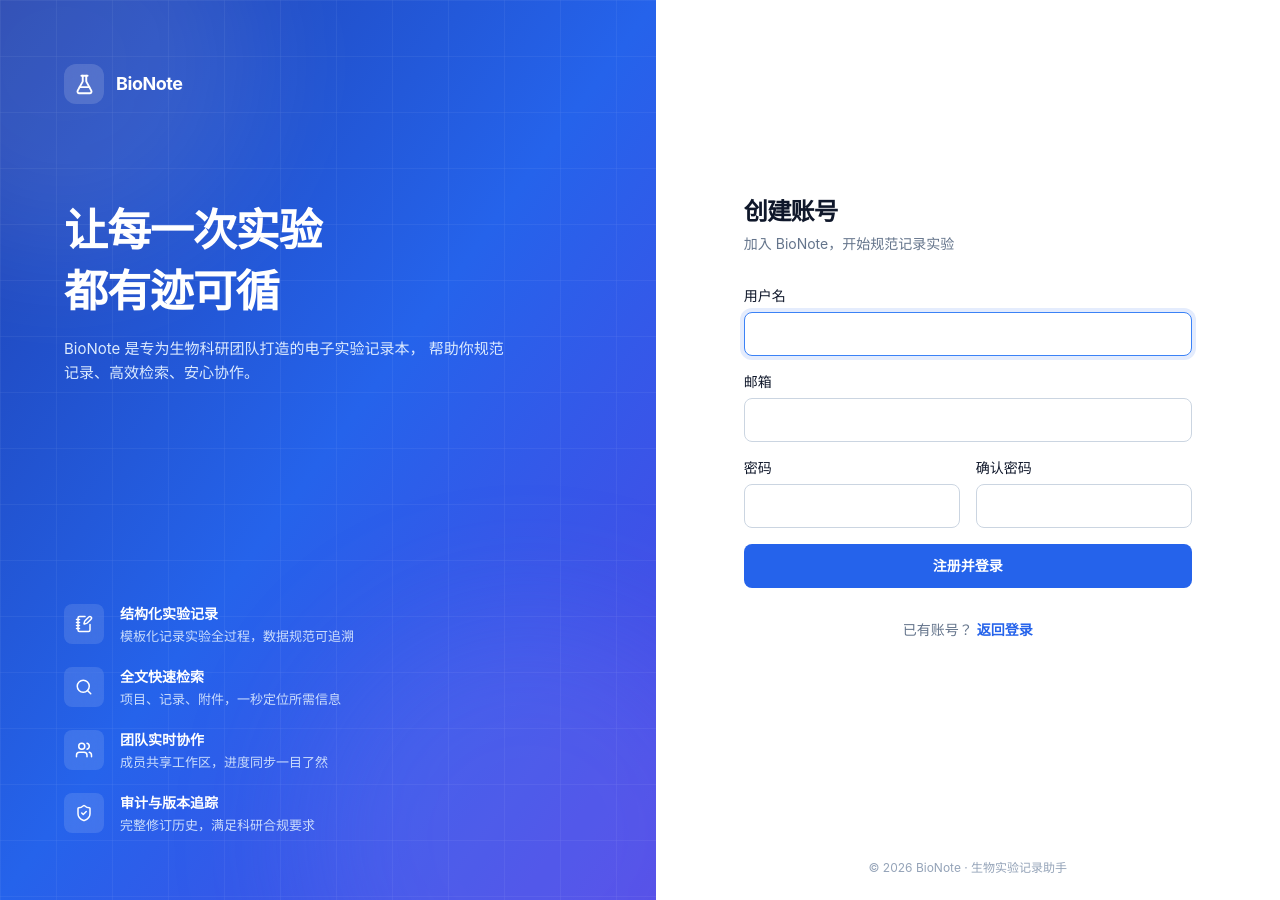
Test: RegisterPage › shows confirmation mismatch at the field
In the field labelled "用户名": (968, 334) [744,312,1192,356], type "测试用户"
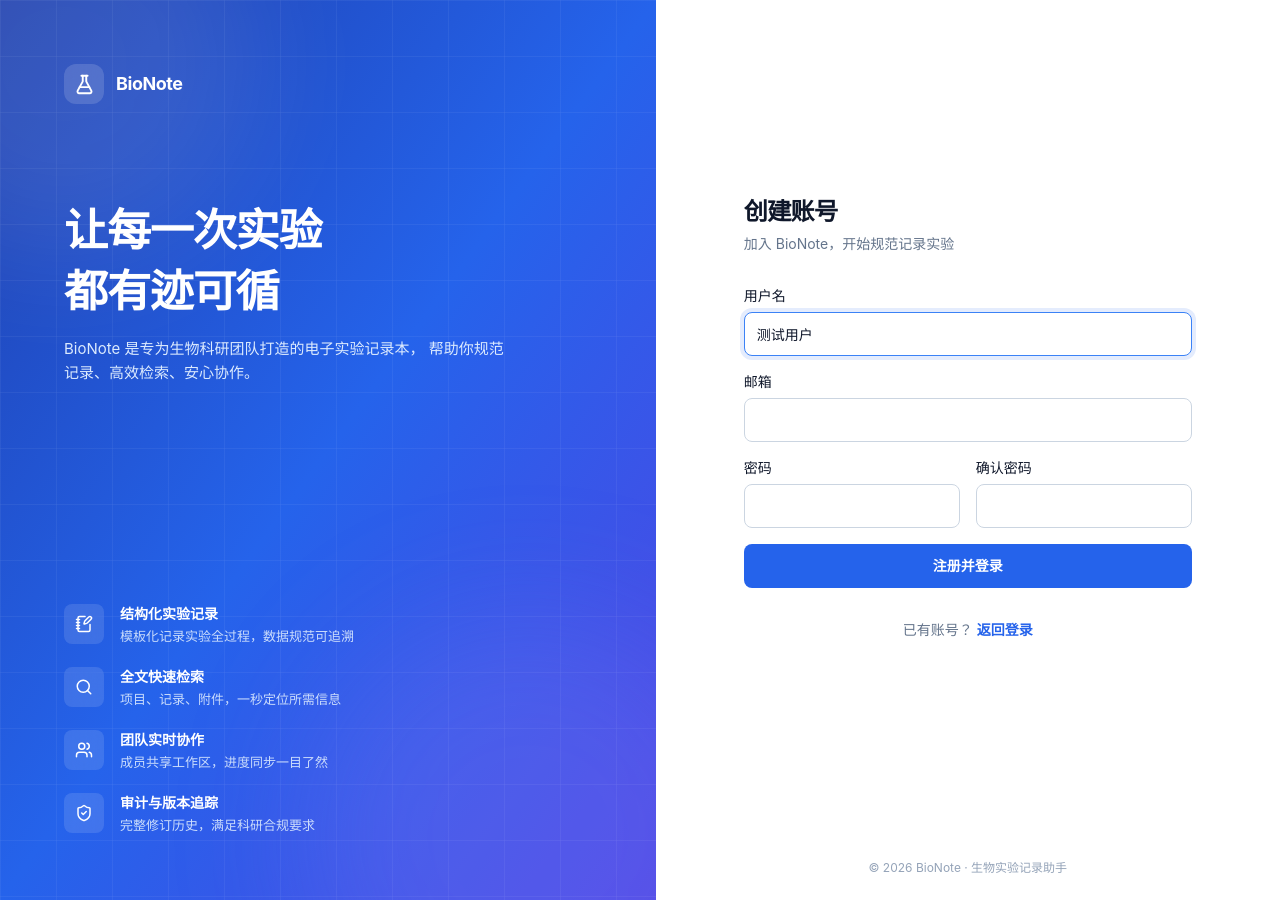
In the field labelled "邮箱": (968, 420) [744,398,1192,442], type "user@example.com"
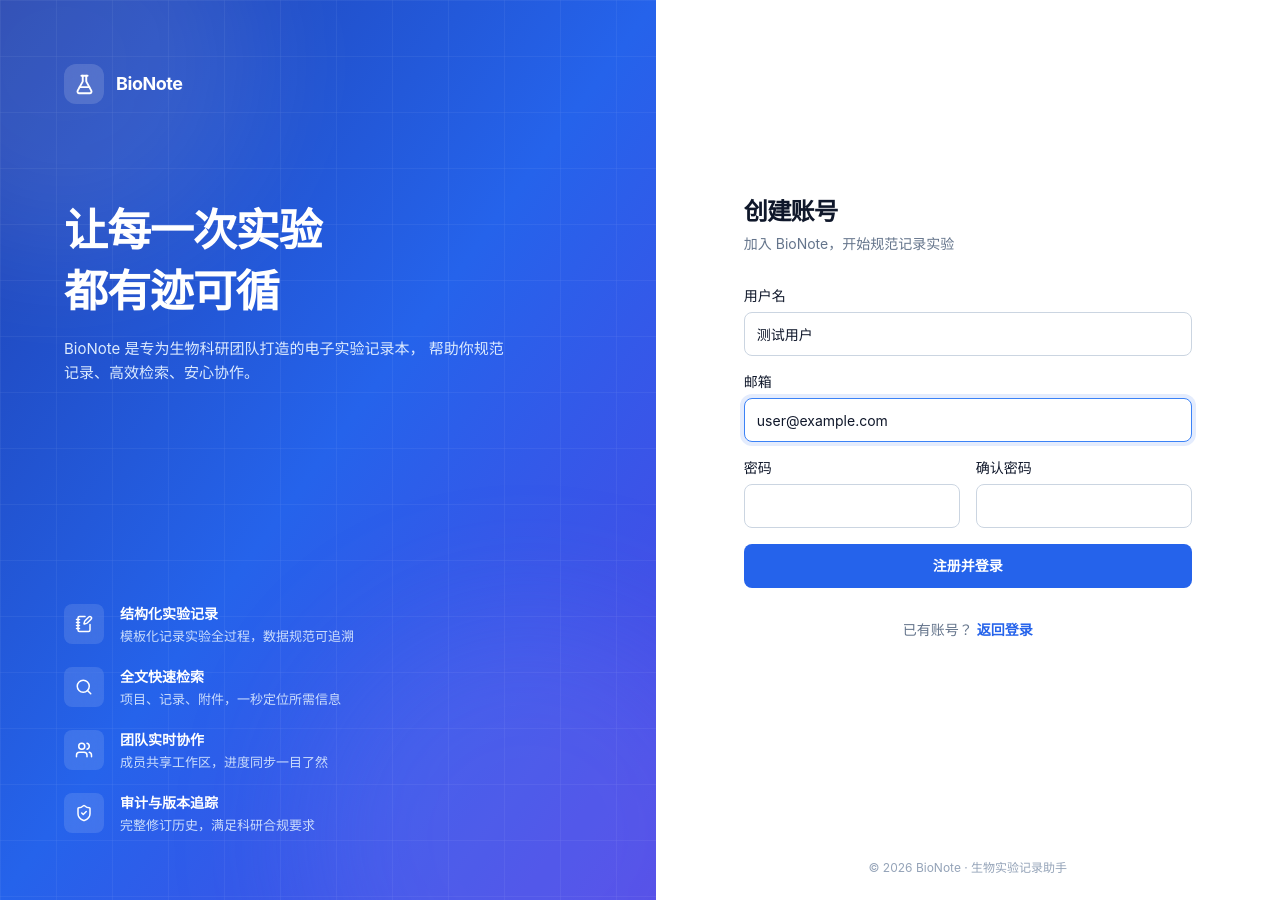
In the password field labelled "密码": (852, 506) [744,484,960,528], type "Password123!"
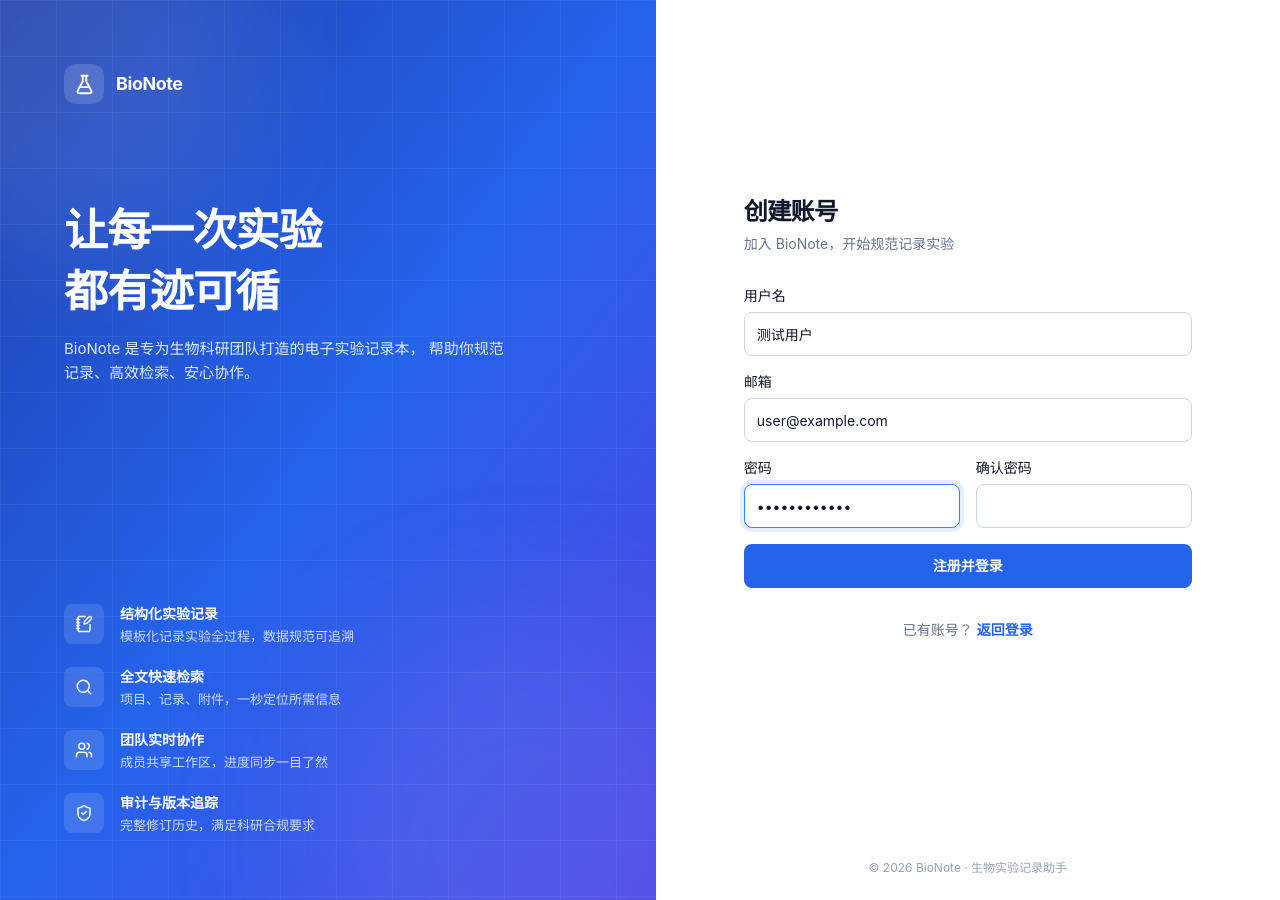
In the password field labelled "确认密码": (1084, 506) [976,484,1192,528], type "Different123!"
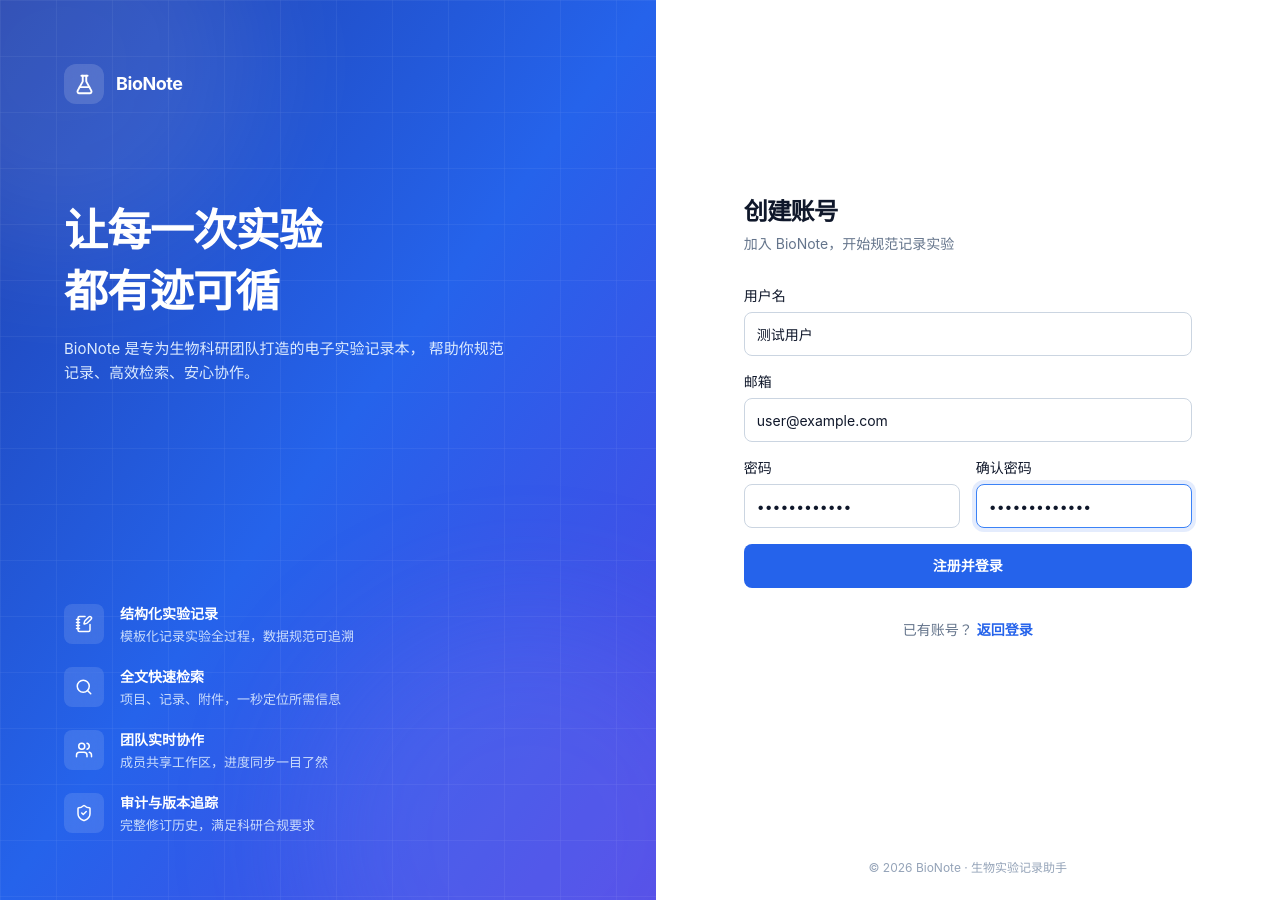
Click the button "注册并登录": (968, 566) [744,544,1192,588]
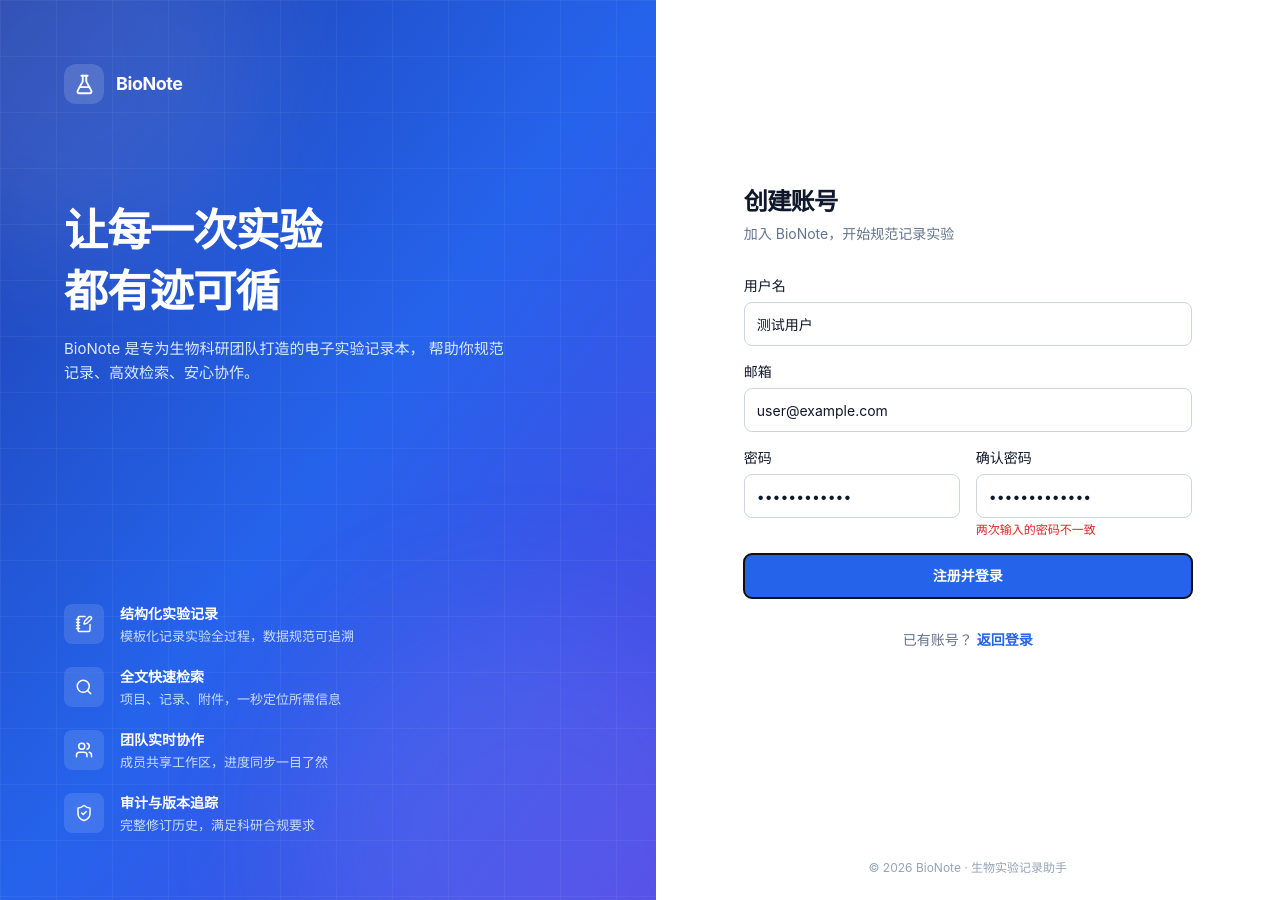
Expected: the text "两次输入的密码不一致" is shown, [976,522,1096,537]
